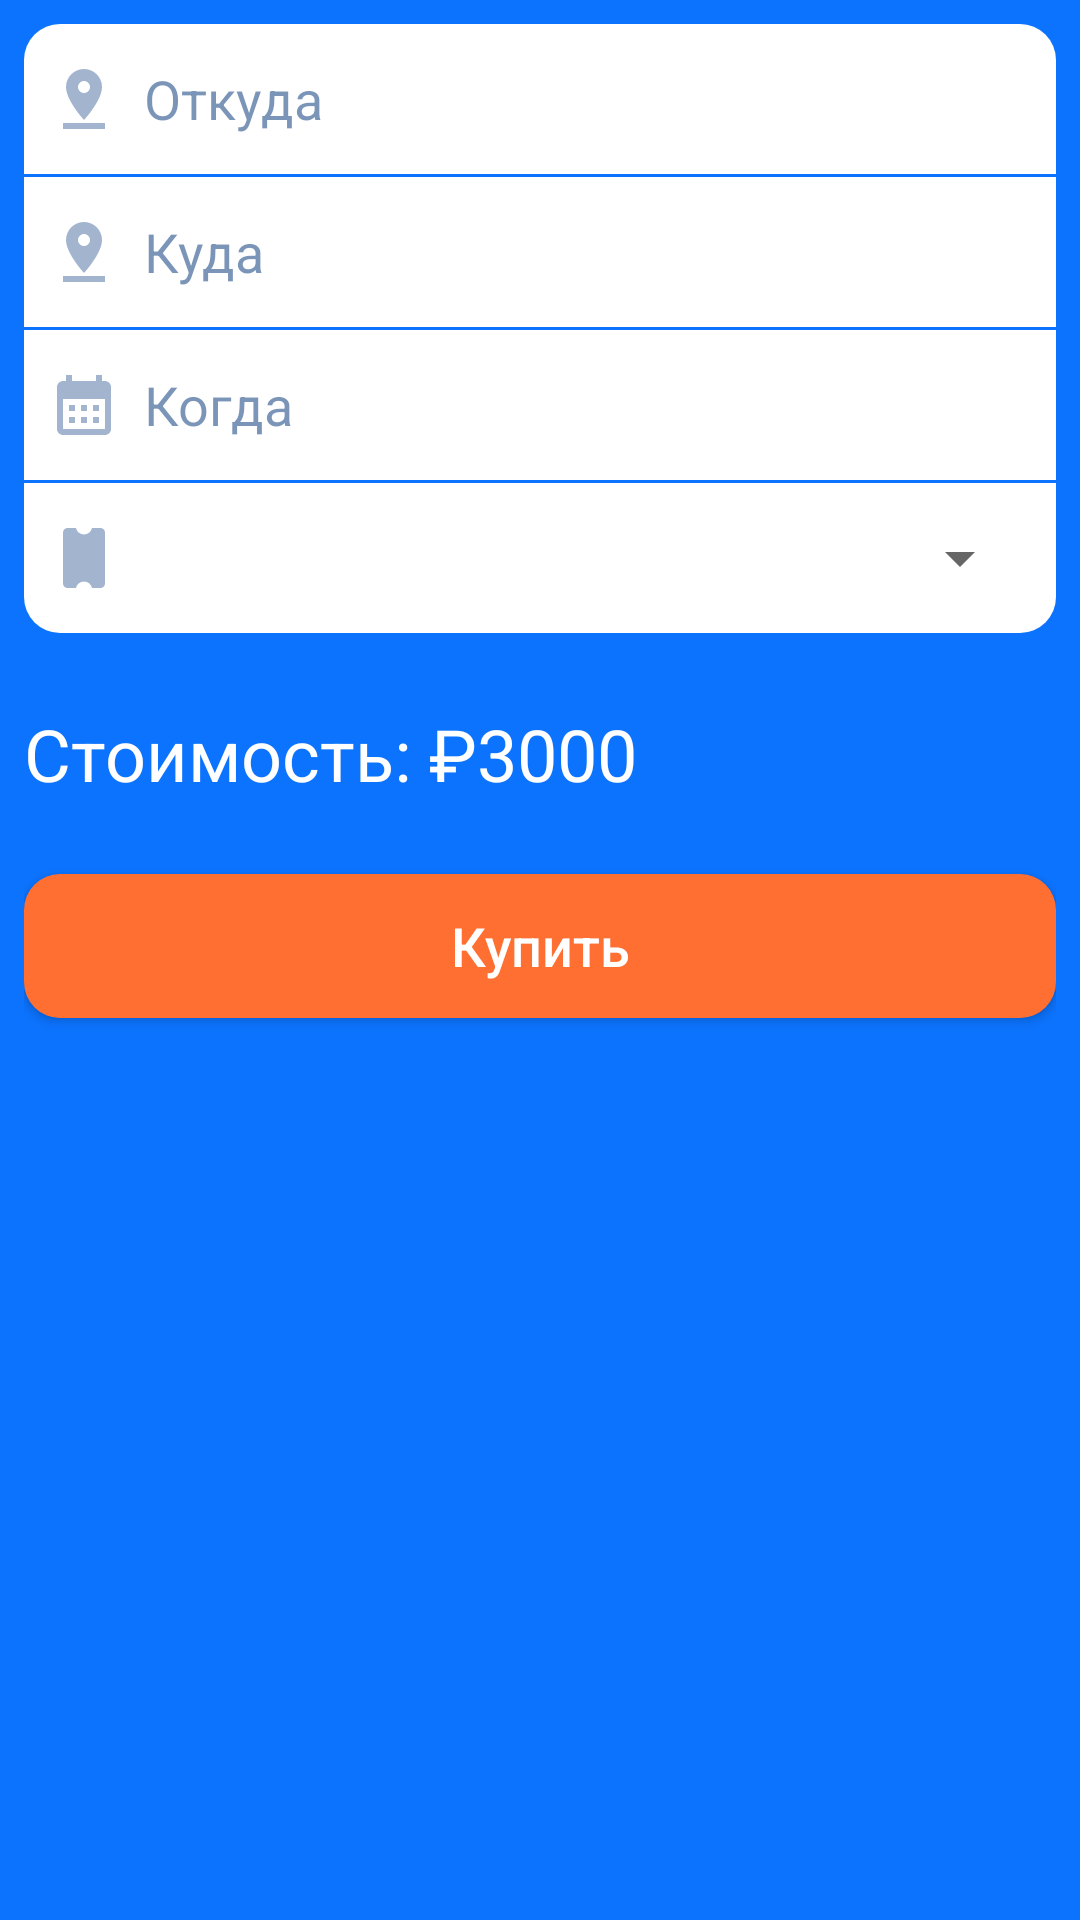

Screen size 1080x1920. Icon name, then its center in pixels as point (x, y):
play pass: point (84, 558)
